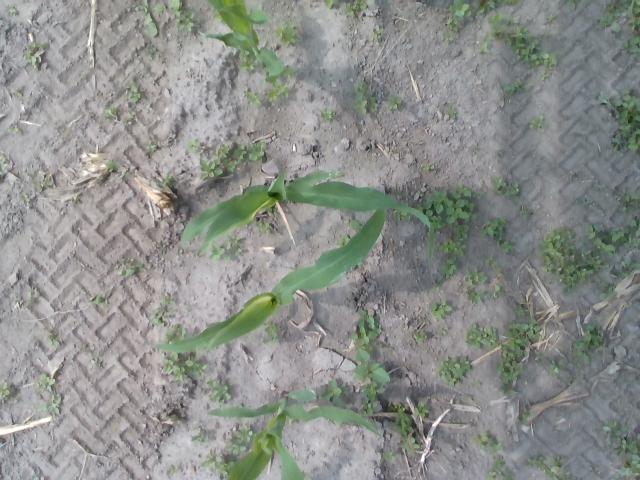Maize: (150, 193, 388, 357), (179, 167, 436, 262), (205, 389, 382, 480), (195, 0, 285, 86)
Weeds: (537, 226, 609, 298), (485, 10, 558, 73), (496, 319, 542, 398), (416, 184, 484, 230), (602, 418, 640, 480), (583, 215, 640, 254), (612, 90, 640, 152), (524, 454, 582, 480), (572, 323, 604, 368), (352, 348, 391, 384), (348, 308, 382, 348), (598, 0, 640, 32), (432, 354, 472, 386), (134, 0, 165, 37), (346, 82, 380, 115), (439, 224, 470, 256), (359, 380, 385, 418), (214, 142, 246, 172), (224, 426, 256, 456), (201, 450, 234, 478), (464, 323, 498, 349), (320, 378, 349, 407), (446, 0, 472, 32), (210, 236, 242, 262), (491, 174, 522, 200), (170, 0, 195, 32), (435, 256, 458, 290), (390, 408, 414, 440), (480, 217, 507, 245), (151, 294, 174, 326), (472, 430, 502, 454), (476, 0, 524, 14), (162, 352, 185, 381), (207, 378, 230, 407), (22, 40, 44, 70), (486, 457, 514, 480), (273, 20, 299, 44), (28, 168, 54, 192), (504, 80, 534, 99), (617, 188, 640, 212), (614, 257, 640, 278), (266, 80, 290, 102), (462, 266, 487, 286), (118, 258, 145, 276), (200, 158, 222, 180), (430, 299, 452, 321), (184, 357, 207, 378), (620, 34, 640, 58), (262, 320, 282, 344), (190, 420, 208, 446), (163, 324, 186, 344), (40, 393, 61, 414), (34, 372, 56, 392), (344, 0, 368, 18), (238, 49, 256, 72), (466, 286, 486, 304), (246, 142, 263, 162), (401, 436, 422, 452), (526, 114, 548, 129), (183, 138, 201, 156), (394, 204, 412, 222), (548, 357, 566, 375), (126, 80, 140, 103), (590, 89, 610, 105), (412, 401, 430, 418), (386, 95, 403, 112), (482, 253, 499, 269), (600, 284, 616, 300), (244, 90, 262, 104), (89, 294, 110, 306), (513, 303, 529, 318), (491, 282, 506, 298), (280, 64, 297, 78), (100, 106, 118, 118), (255, 220, 270, 234), (143, 46, 159, 59), (521, 407, 533, 424), (44, 334, 61, 346), (379, 452, 396, 464), (0, 380, 10, 400), (372, 25, 386, 39), (321, 107, 336, 120), (501, 240, 516, 253), (446, 104, 458, 120), (104, 160, 120, 172), (10, 85, 24, 98), (519, 207, 534, 219), (386, 403, 406, 412), (413, 331, 428, 343), (578, 196, 592, 208), (337, 235, 352, 246), (348, 220, 364, 230), (442, 29, 454, 42), (162, 175, 176, 186), (564, 0, 580, 9), (123, 114, 136, 124), (212, 8, 222, 20), (479, 40, 489, 52), (266, 206, 279, 215), (321, 0, 334, 9), (5, 7, 18, 16), (540, 70, 550, 81), (302, 470, 313, 480), (19, 192, 30, 202), (7, 125, 19, 134), (146, 144, 158, 153), (438, 327, 448, 336), (168, 464, 178, 472), (421, 164, 435, 169), (0, 154, 7, 164), (473, 145, 481, 153), (416, 138, 424, 144), (474, 382, 482, 388), (0, 170, 4, 178)
